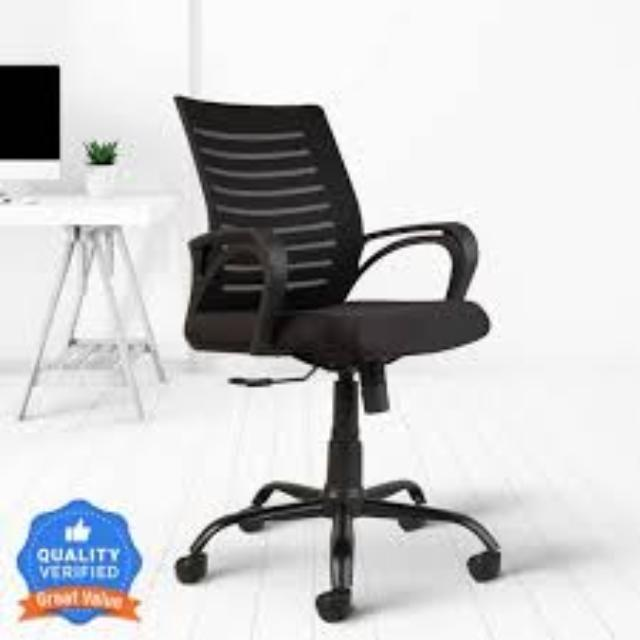obstacle: (160, 76, 512, 614)
